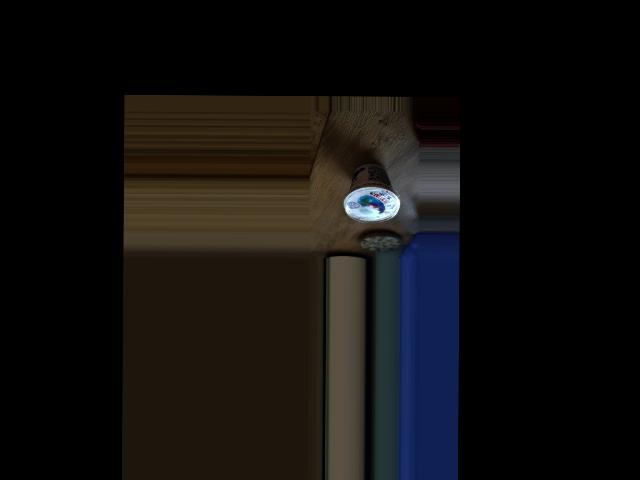cotage: (341, 154, 390, 224)
